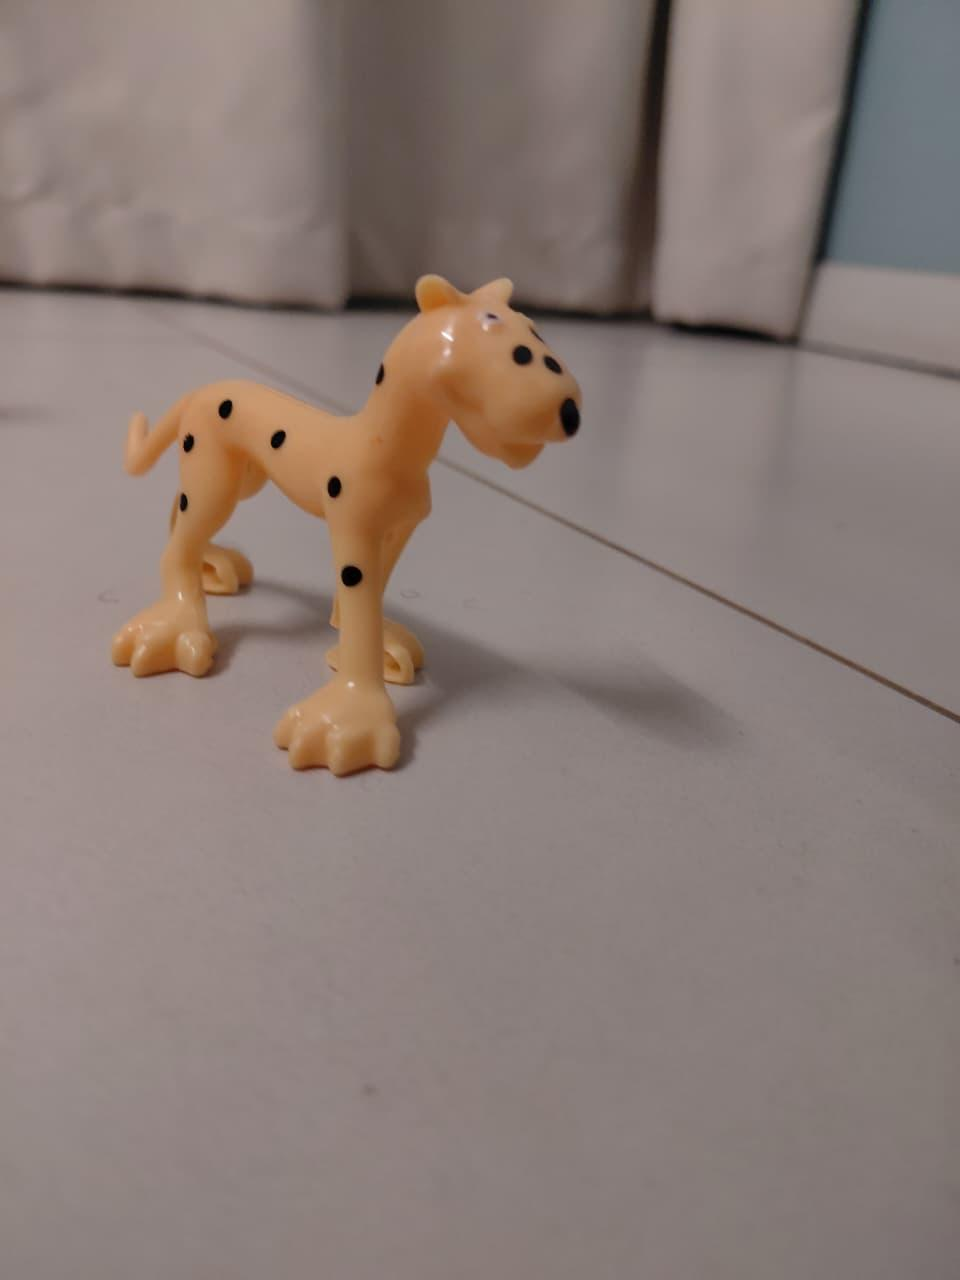cheetah: (100, 251, 592, 807)
